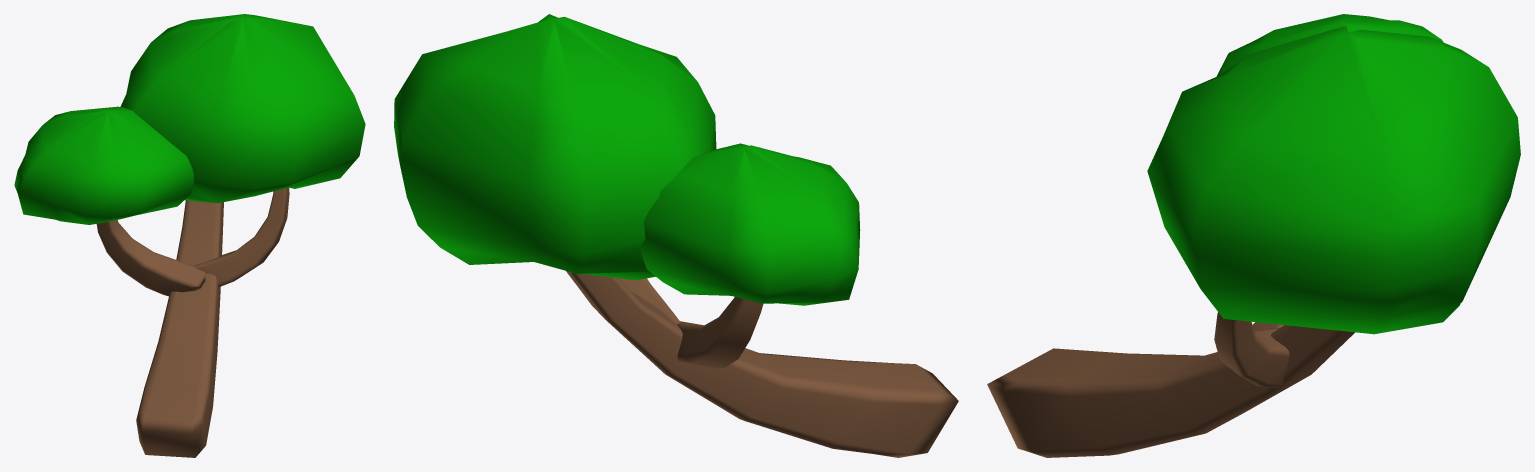
The model's file is ColoredBranch.fbx.
The picture shows the model from 3 angles, left to right: view 1: azimuth 30°, elevation 25°; view 2: azimuth 150°, elevation 25°; view 3: azimuth 270°, elevation 25°; orthographic projection. The views are drawn at different scales.
Parts seen in each view (by area): view 1: pasted__pasted__pasted__pSphere1, pasted__pasted__pasted__pasted__pSphere1, pasted__pasted__pCube4, pasted__pasted__pasted__pasted__pasted__pasted__pCube4, pasted__pasted__pasted__pasted__pasted__pasted__pasted__pCub; view 2: pasted__pasted__pasted__pSphere1, pasted__pasted__pasted__pasted__pSphere1, pasted__pasted__pCube4, pasted__pasted__pasted__pasted__pasted__pasted__pCube4, pasted__pasted__pasted__pasted__pasted__pasted__pasted__pCub; view 3: pasted__pasted__pasted__pSphere1, pasted__pasted__pCube4, pasted__pasted__pasted__pasted__pasted__pasted__pasted__pCub, pasted__pasted__pasted__pasted__pSphere1.
Boxes of the visible parts, x1,y1,x2,y2 form: pasted__pasted__pasted__pSphere1: [120, 14, 365, 203]; pasted__pasted__pasted__pasted__pSphere1: [14, 106, 194, 224]; pasted__pasted__pCube4: [136, 200, 223, 457]; pasted__pasted__pasted__pasted__pasted__pasted__pCube4: [96, 220, 205, 296]; pasted__pasted__pasted__pasted__pasted__pasted__pasted__pCub: [193, 188, 289, 287]; pasted__pasted__pasted__pSphere1: [394, 14, 716, 280]; pasted__pasted__pasted__pasted__pSphere1: [640, 143, 860, 305]; pasted__pasted__pCube4: [566, 271, 958, 457]; pasted__pasted__pasted__pasted__pasted__pasted__pCube4: [677, 297, 763, 368]; pasted__pasted__pasted__pasted__pasted__pasted__pasted__pCub: [619, 278, 680, 324]; pasted__pasted__pasted__pSphere1: [1147, 26, 1520, 334]; pasted__pasted__pCube4: [987, 325, 1354, 457]; pasted__pasted__pasted__pasted__pasted__pasted__pasted__pCub: [1214, 312, 1289, 387]; pasted__pasted__pasted__pasted__pSphere1: [1216, 14, 1443, 76].
Size of the model in its own units: 22.74 by 22.28 by 20.23.
